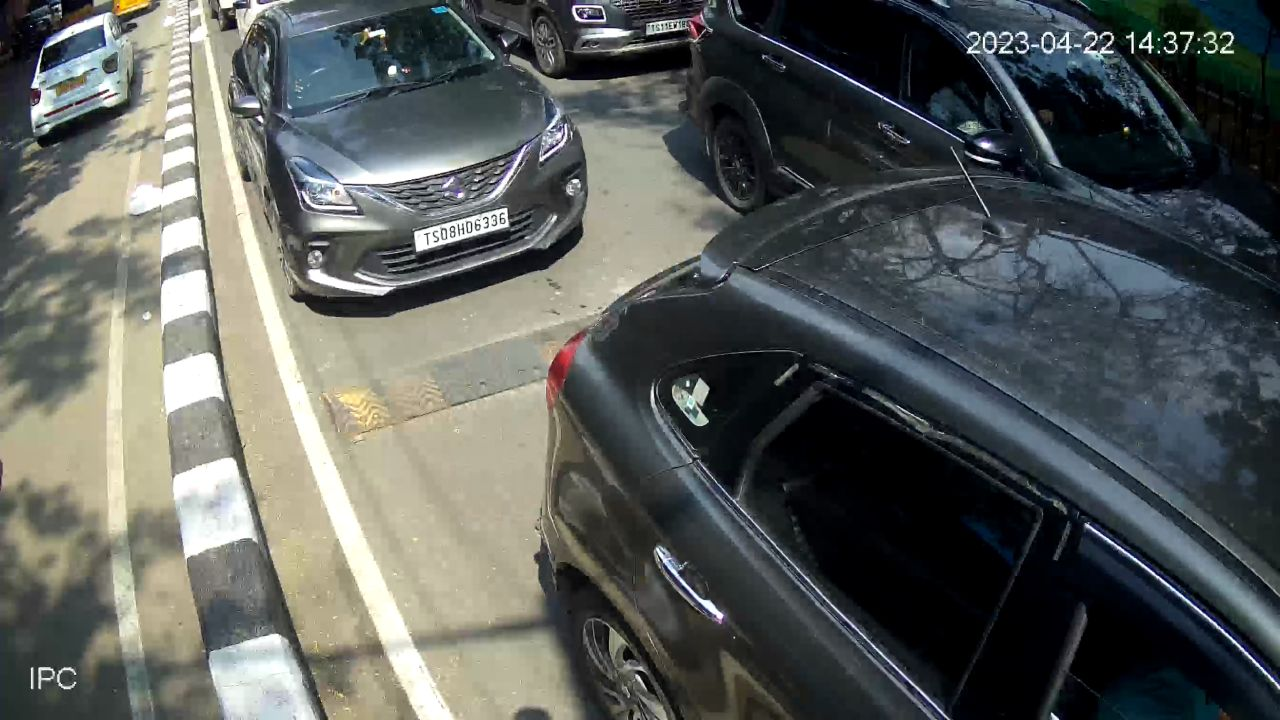license_plate: (409, 204, 512, 258)
